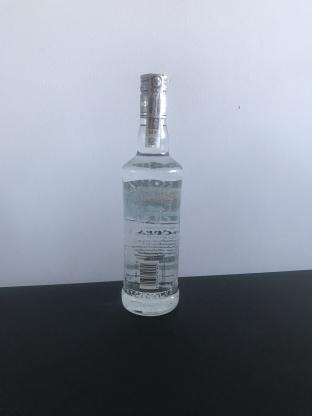nakretka: (137, 69, 169, 121)
